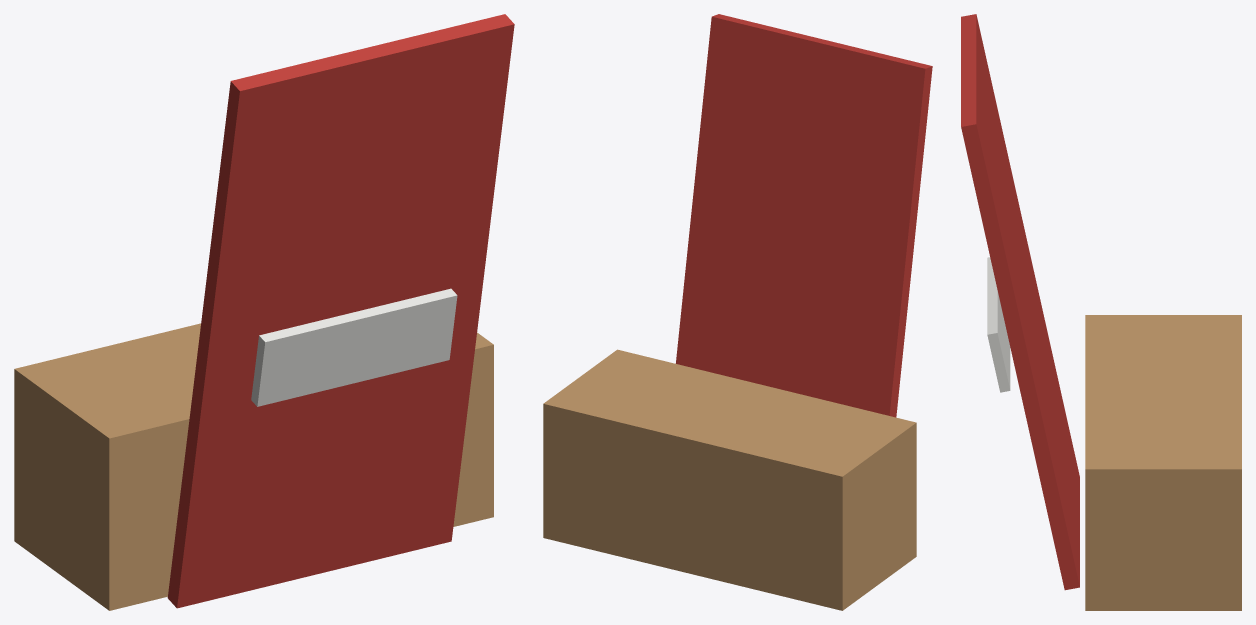
File: prop_pomodoro_p1.glb
3 views of the same model, side by side, from view 1: azimuth 30°, elevation 25°; view 2: azimuth 150°, elevation 25°; view 3: azimuth 270°, elevation 25° (orthographic). The views are drawn at different scales.
Parts seen in each view (by area): view 1: prop_pomodoro_p1_mesh; view 2: prop_pomodoro_p1_mesh; view 3: prop_pomodoro_p1_mesh.
Part boxes in pixels (bbox=[...]): prop_pomodoro_p1_mesh: bbox=[14, 14, 514, 610]; prop_pomodoro_p1_mesh: bbox=[543, 14, 932, 610]; prop_pomodoro_p1_mesh: bbox=[961, 14, 1241, 610].
Size of the model in its own units: 0.14 by 0.1972 by 0.1077.
